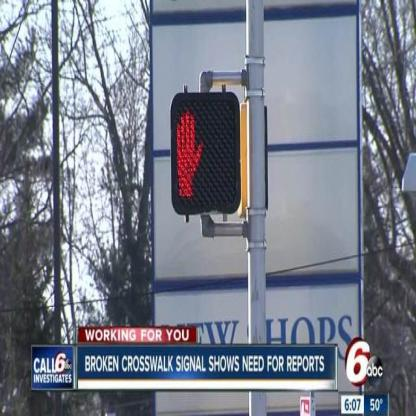Don-t Walk: (172, 90, 242, 209)
